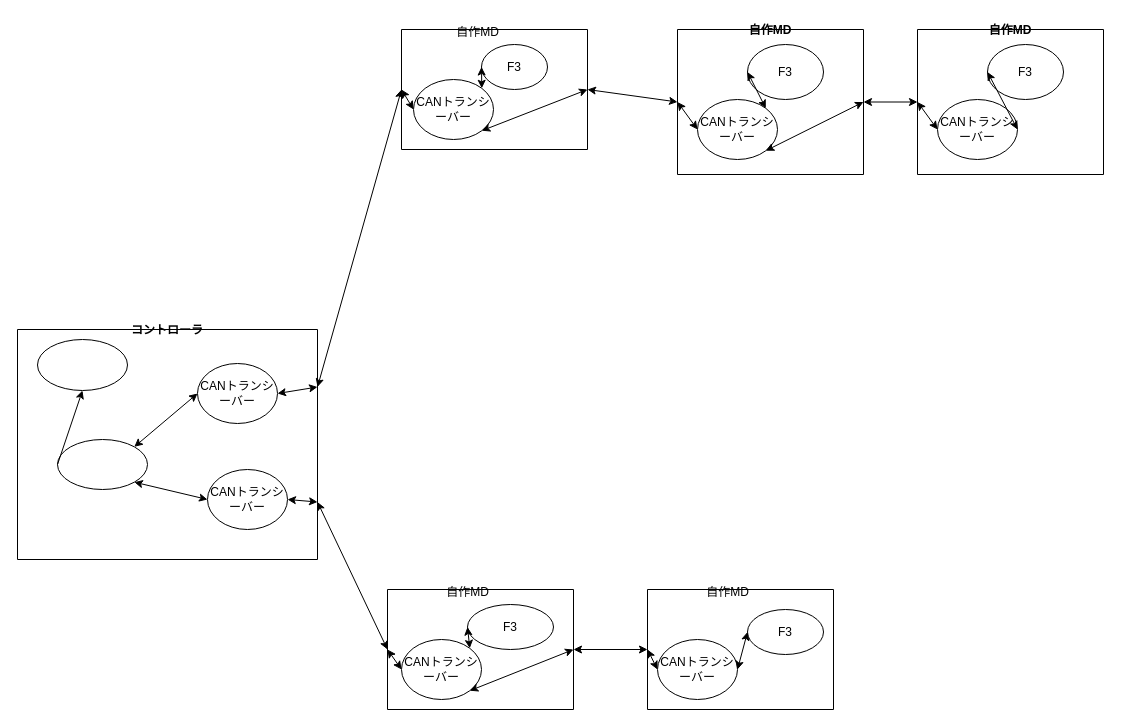
This 1121x727 diagram has some shape labels left out. The shapes that lost their labels are listed below. From the top down, each one's centre as x and y in pixels, then its label:
point 82,364: LCD
point 102,464: F7
